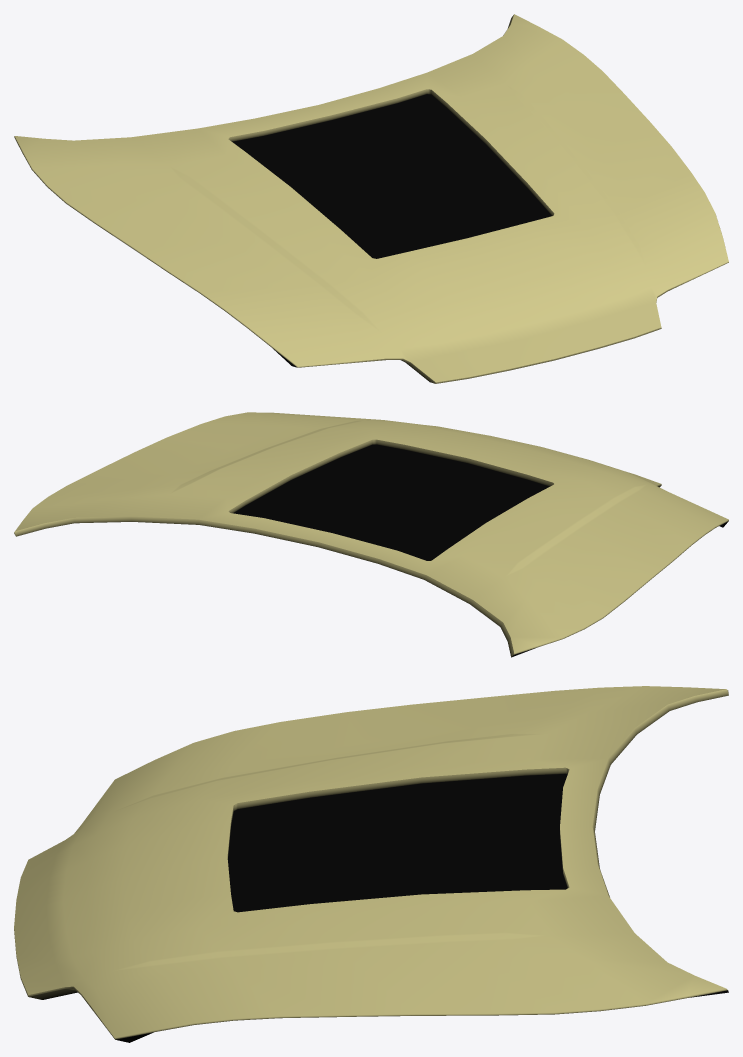
File: Supra_Bonnet_06_Duco.fbx
The picture shows the model from 3 angles, top to bottom: view 1: azimuth 30°, elevation 25°; view 2: azimuth 150°, elevation 25°; view 3: azimuth 270°, elevation 25°; orthographic projection. The views are drawn at different scales.
Parts seen in each view (by area): view 1: Supra_Bonnet_06_Duco; view 2: Supra_Bonnet_06_Duco; view 3: Supra_Bonnet_06_Duco.
Boxes of the visible parts, bbox=[...] form: Supra_Bonnet_06_Duco: bbox=[14, 14, 728, 383]; Supra_Bonnet_06_Duco: bbox=[14, 412, 728, 657]; Supra_Bonnet_06_Duco: bbox=[14, 686, 728, 1042].
Bounding box in the file's own units: 157 × 24.03 × 147.
